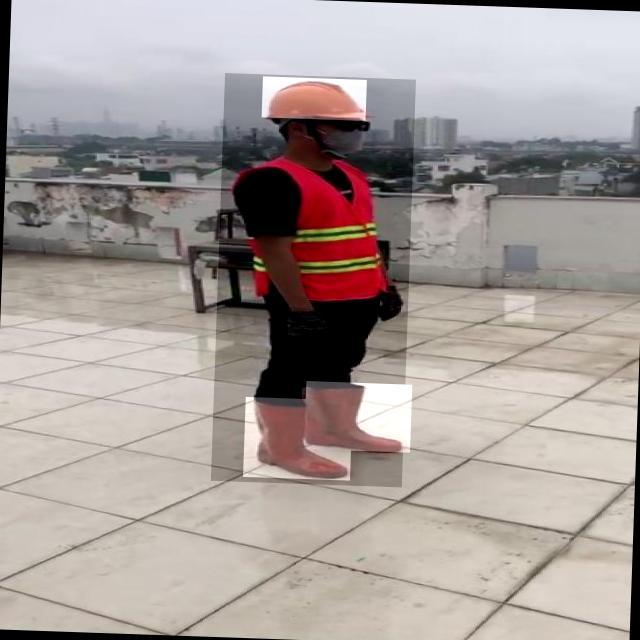Gloves: (277, 306, 335, 347), (378, 287, 404, 322)
Helmet: (261, 76, 366, 121)
Human: (211, 72, 416, 487)
Safety Boot: (243, 397, 353, 481), (303, 381, 412, 453)
Safety Vest: (227, 158, 388, 299)
